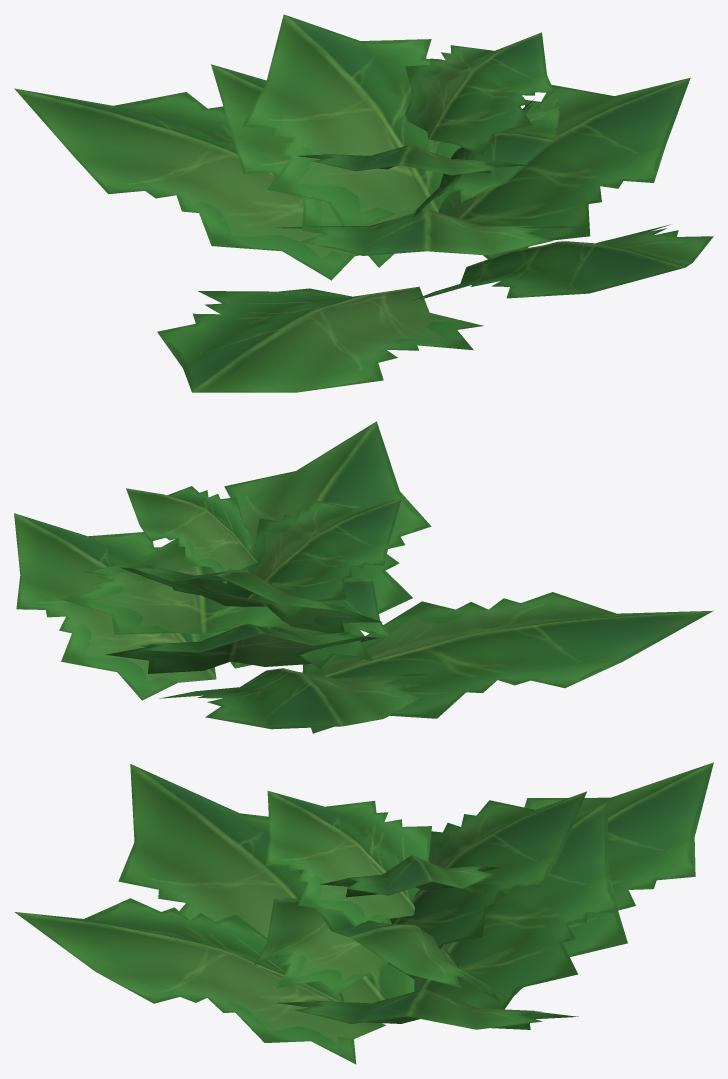
File: erva.fbx
The picture shows the model from 3 angles, top to bottom: view 1: azimuth 30°, elevation 25°; view 2: azimuth 150°, elevation 25°; view 3: azimuth 270°, elevation 25°; orthographic projection. The views are drawn at different scales.
Parts seen in each view (by area): view 1: erva; view 2: erva; view 3: erva.
Boxes of the visible parts, x1,y1,x2,y2 form: erva: (14,14,713,392); erva: (14,421,713,733); erva: (14,762,713,1064).
Bounding box in the file's own units: 2.9 × 0.9363 × 2.79.
